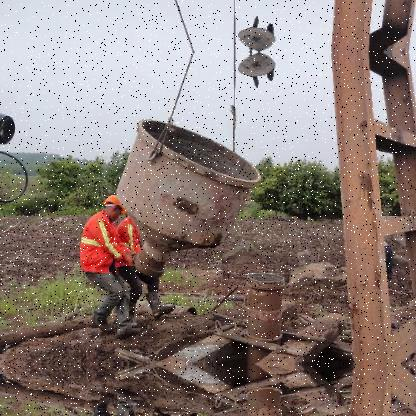Helmet: (104, 190, 128, 218)
